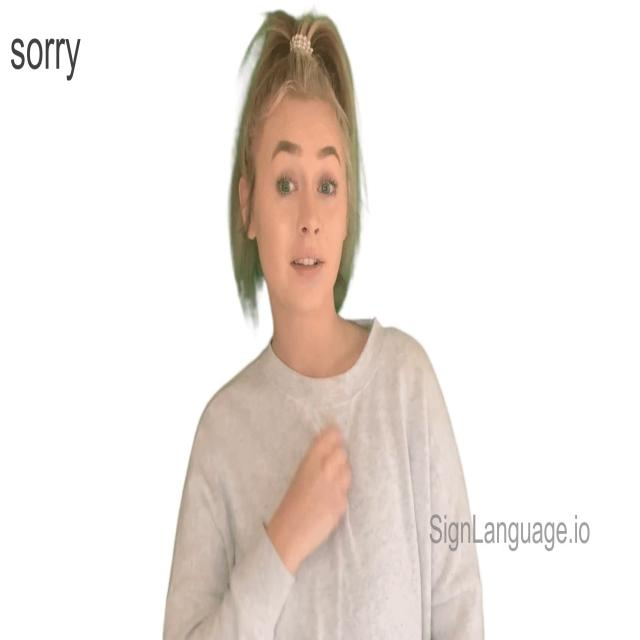sorry: (265, 421, 356, 566)
